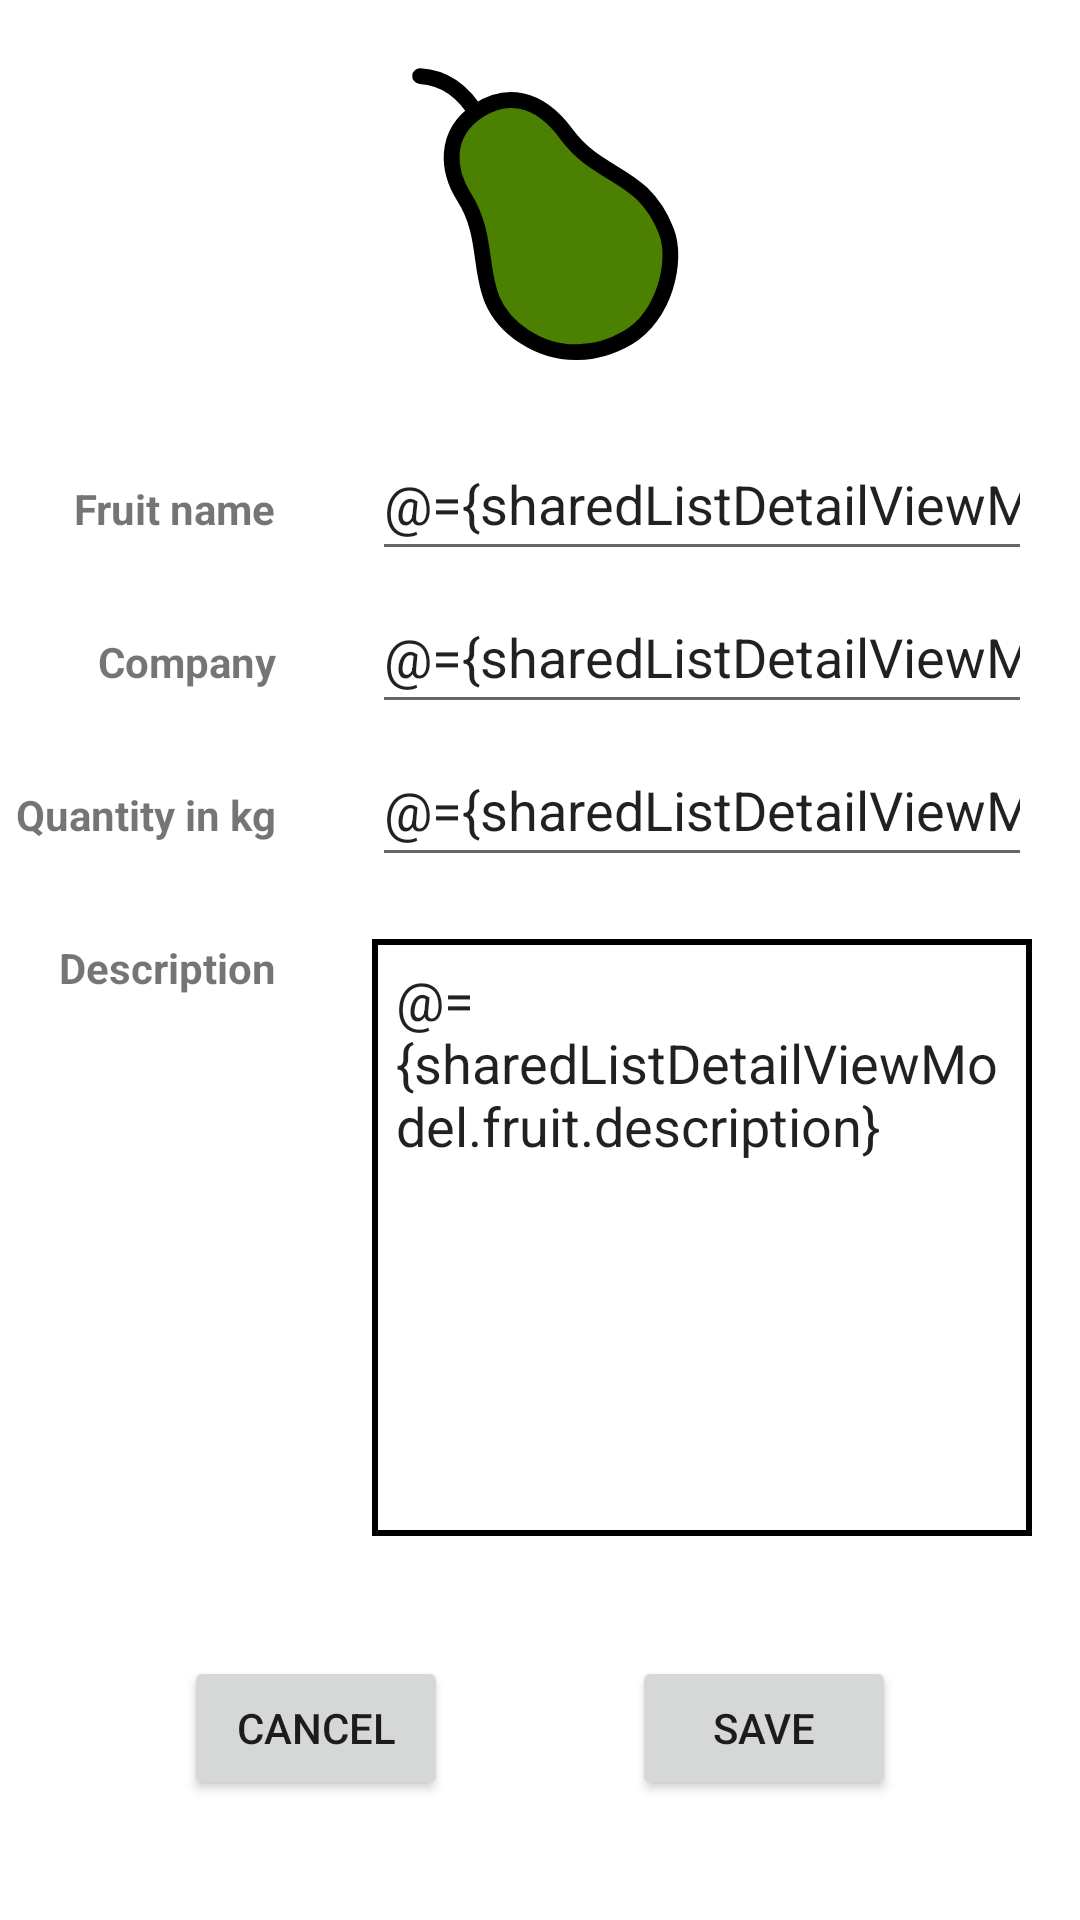

Screen size 1080×1920. Icon name, then its box in pixels as (x1, y1, x2, y2):
Pear: (412, 68, 679, 360)
